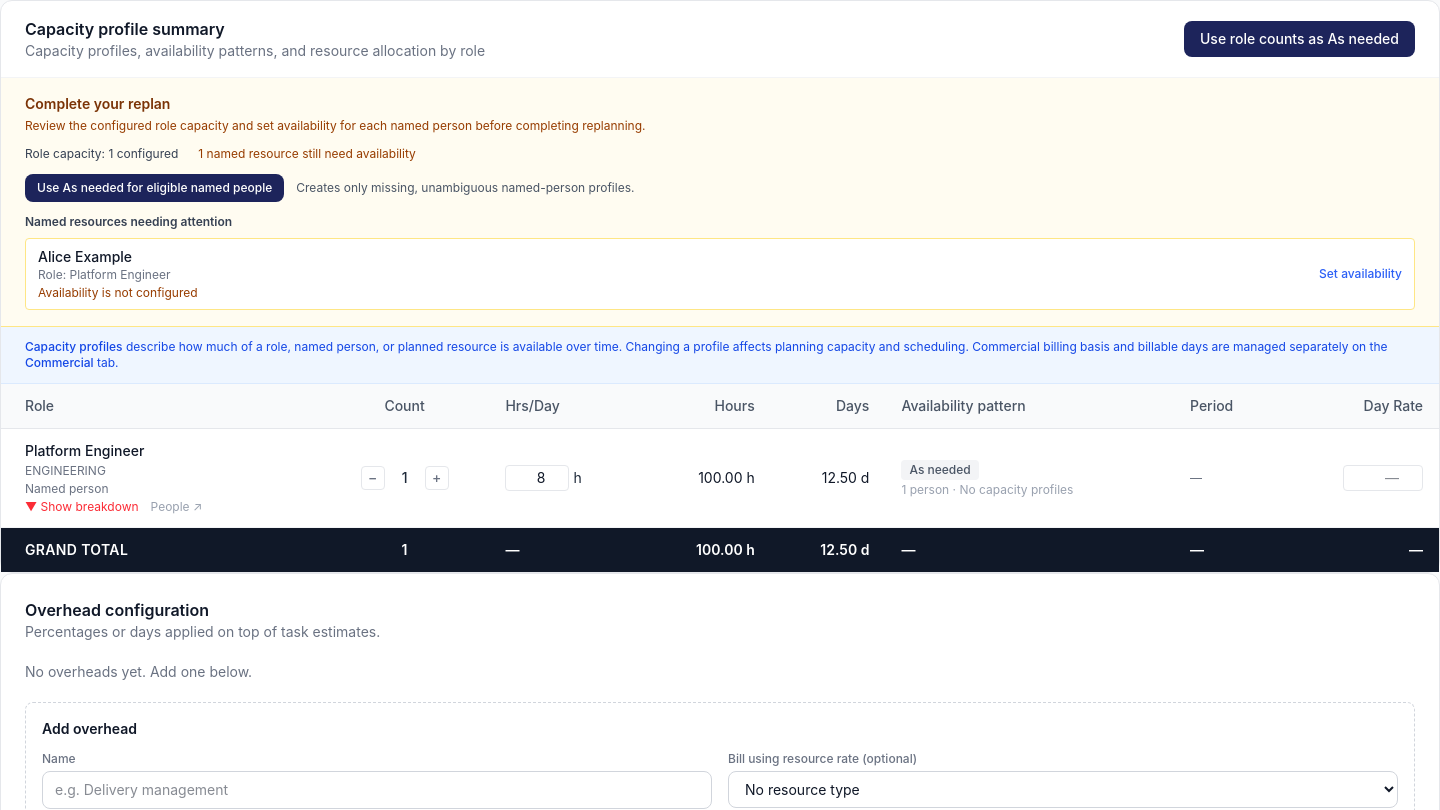
Scenario: ResourceProfileTab — named-person recovery (issue #474) › shows the named resource, parent role, and direct availability action
The image size is (1440, 810).
Expected: the element with test id "replan-recovery-summary" shows "Alice Example", x1=38 y1=248 x2=132 y2=265
Expected: the element with test id "replan-recovery-summary" shows "Role: Platform Engineer", x1=1 y1=78 x2=1439 y2=327
Click the button with test id "set-availability-nr-alice". click: [1361, 274]
box: x1=1319 y1=266 x2=1402 y2=282
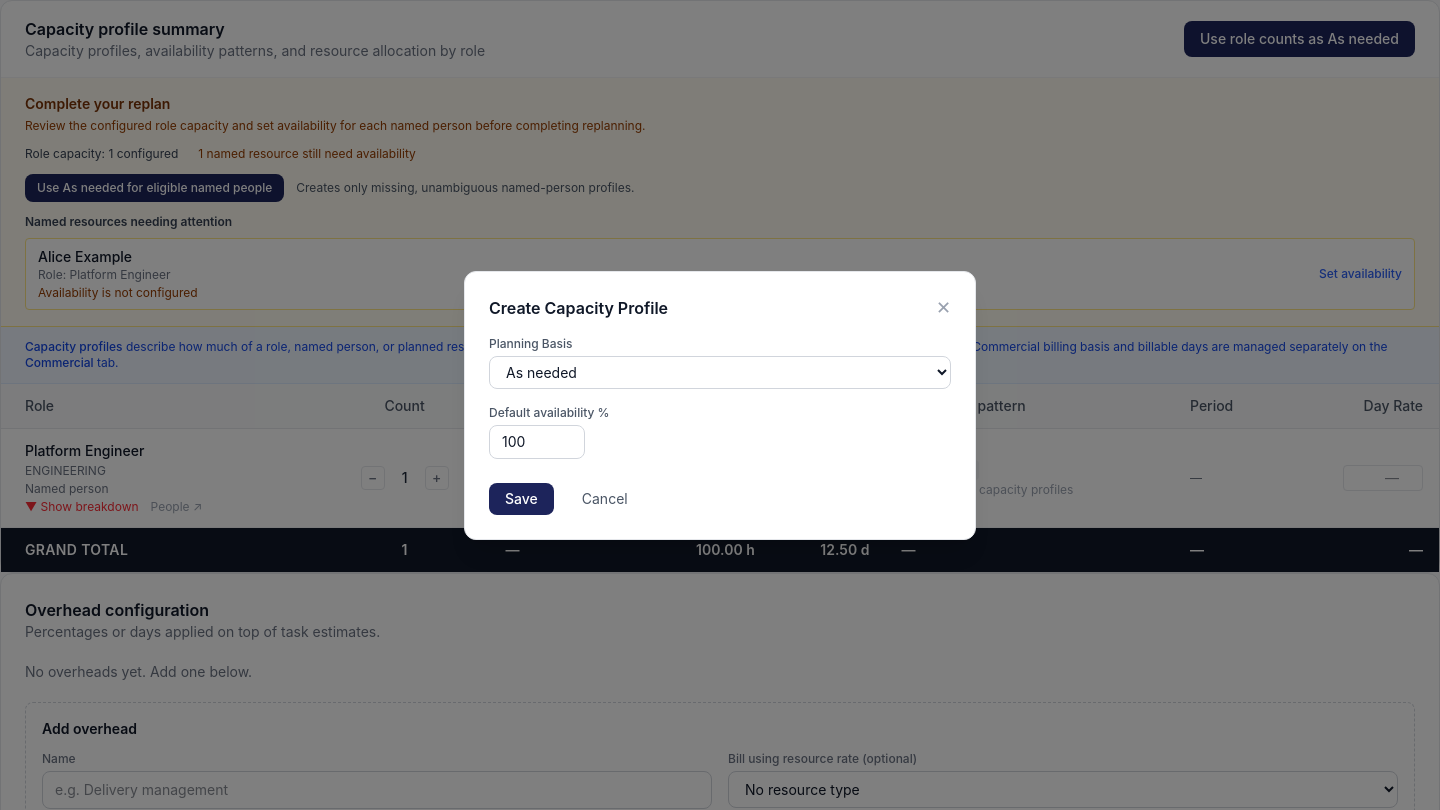
Now the dialog named "Edit capacity profile" is shown
Now the heading "Create Capacity Profile" is shown, box x1=489 y1=296 x2=668 y2=320
